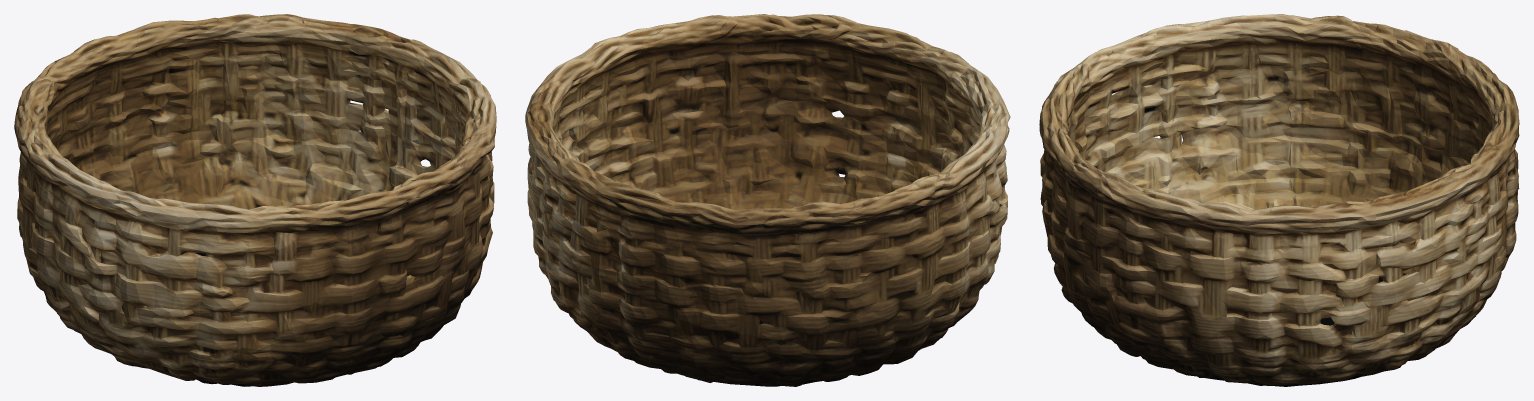
The model's file is woven-basket-file-holder-3d.jpeg.glb.
The picture shows the model from 3 angles, left to right: view 1: azimuth 30°, elevation 25°; view 2: azimuth 150°, elevation 25°; view 3: azimuth 270°, elevation 25°; orthographic projection.
Parts seen in each view (by area): view 1: world; view 2: world; view 3: world.
Boxes of the visible parts, box(x1,y1,x2,y2) form: world: box(14, 14, 496, 386); world: box(525, 14, 1010, 386); world: box(1039, 14, 1519, 386).
Bounding box in the file's own units: 0.9994 × 0.4939 × 1.
Materials: 1 (1 with a texture image).
